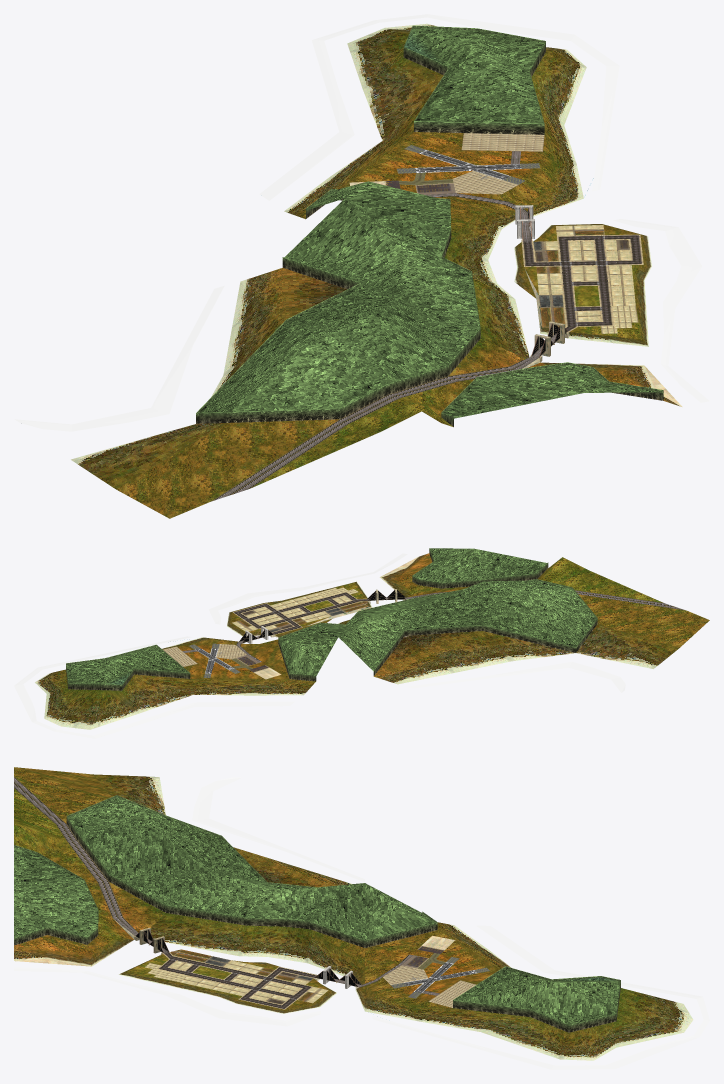
File: world-4.glb
The picture shows the model from 3 angles, top to bottom: view 1: azimuth 30°, elevation 25°; view 2: azimuth 150°, elevation 25°; view 3: azimuth 270°, elevation 25°; orthographic projection. The views are drawn at different scales.
Parts seen in each view (by area): view 1: world-4; view 2: world-4; view 3: world-4.
Part boxes in pixels (x1,y1,x2,y2): world-4: (15, 14, 709, 518); world-4: (14, 548, 709, 738); world-4: (14, 767, 709, 1069).
Bounding box in the file's own units: 1970 × 180 × 1983.
24 materials, 24 textured.
